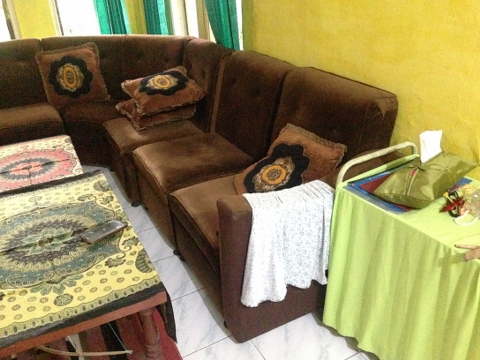kursi: (167, 66, 398, 343), (133, 50, 295, 248), (104, 39, 228, 208), (40, 35, 186, 170)
meja: (319, 139, 480, 359), (1, 170, 170, 360), (3, 134, 81, 198)
